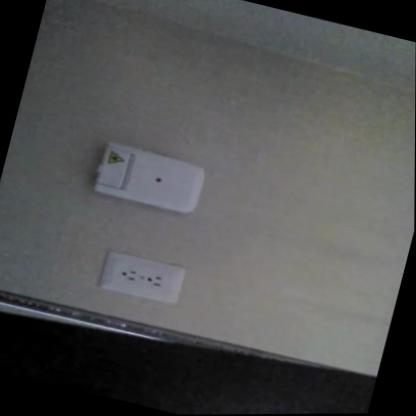OUTLET: (99, 249, 185, 306)
